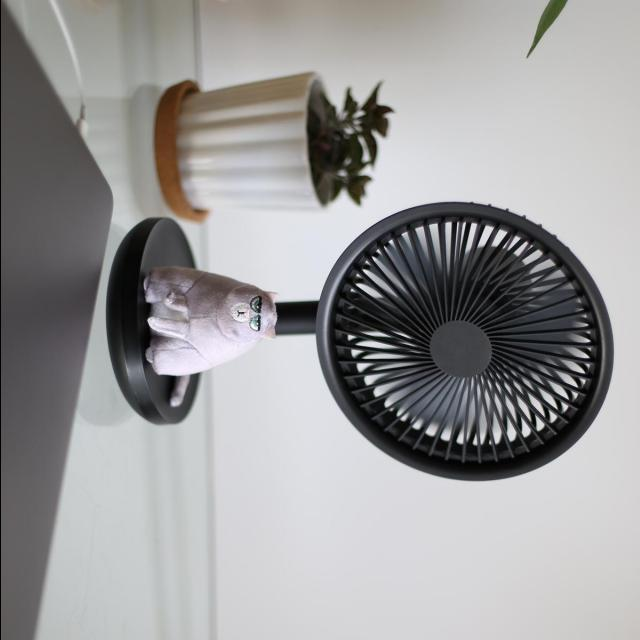fan: (102, 201, 610, 490)
